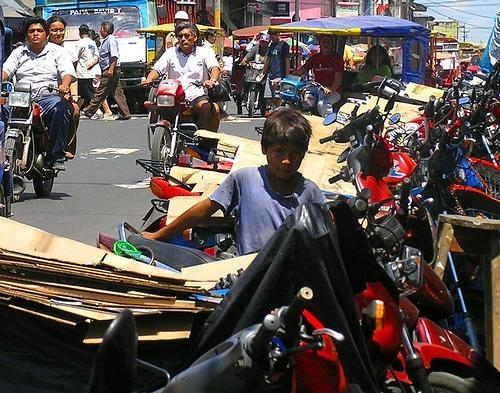motorcycle: (196, 197, 456, 321), (82, 288, 351, 388), (355, 283, 500, 388), (386, 98, 472, 217), (0, 82, 70, 218), (432, 92, 500, 190), (321, 123, 403, 202), (136, 78, 208, 162), (97, 220, 217, 270), (270, 76, 346, 116), (446, 90, 500, 146), (238, 60, 268, 117)
truck: (35, 0, 199, 114)
